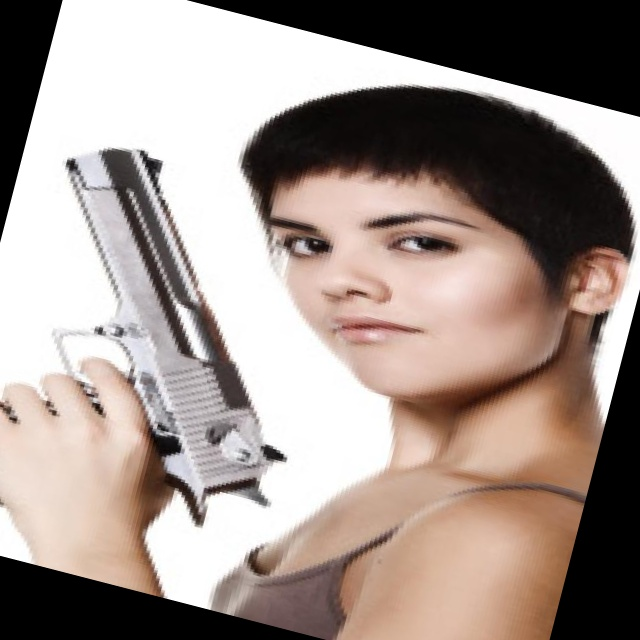gun: (0, 105, 369, 579)
